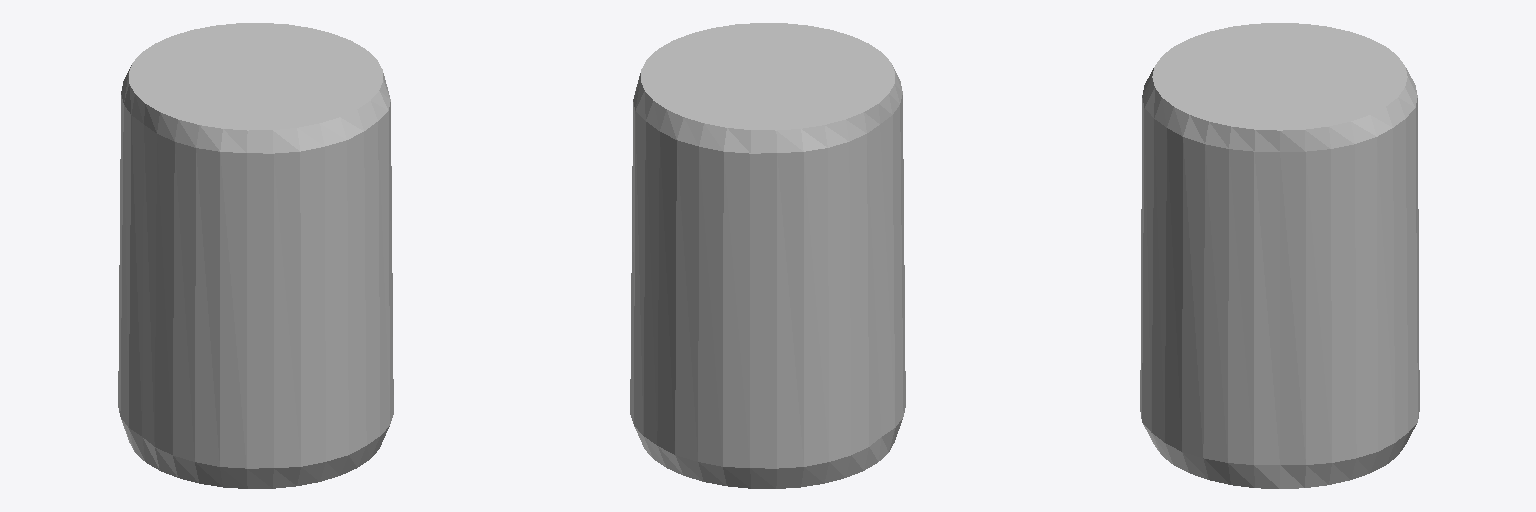
File: pepsi.obj
3 renders of one model, left to right at view 1: azimuth 30°, elevation 25°; view 2: azimuth 150°, elevation 25°; view 3: azimuth 270°, elevation 25°, orthographic.
Parts seen in each view (by area): view 1: Cylinder; view 2: Cylinder; view 3: Cylinder.
Boxes of the visible parts, x1,y1,x2,y2 form: Cylinder: [118, 23, 393, 488]; Cylinder: [630, 23, 905, 488]; Cylinder: [1140, 23, 1419, 488].
Bounding box in the file's own units: 2.07 × 3.1 × 2.19.